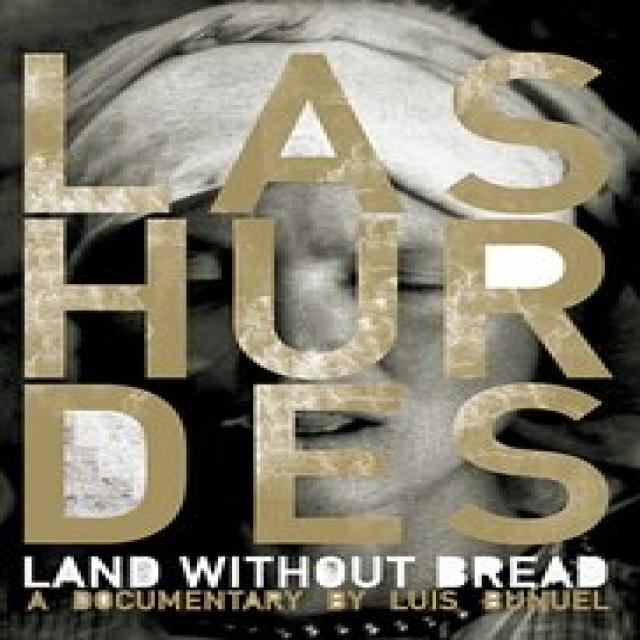movie-judul: (10, 41, 612, 616)
picture: (0, 1, 640, 639)
